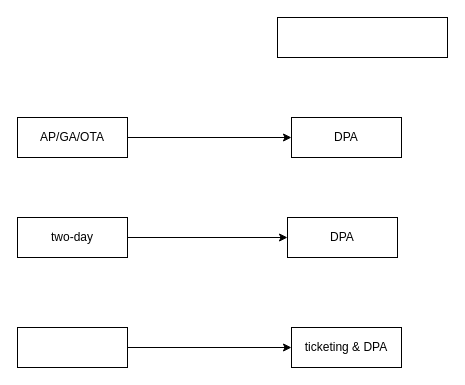
Image size: 465x385. Some labels were removed from this diagram. The centre of each missing label's shape, as x and y in pixels:
one-day: point 72,347
通过AP/GA购买的DPA要一单一单的改: point 362,37
